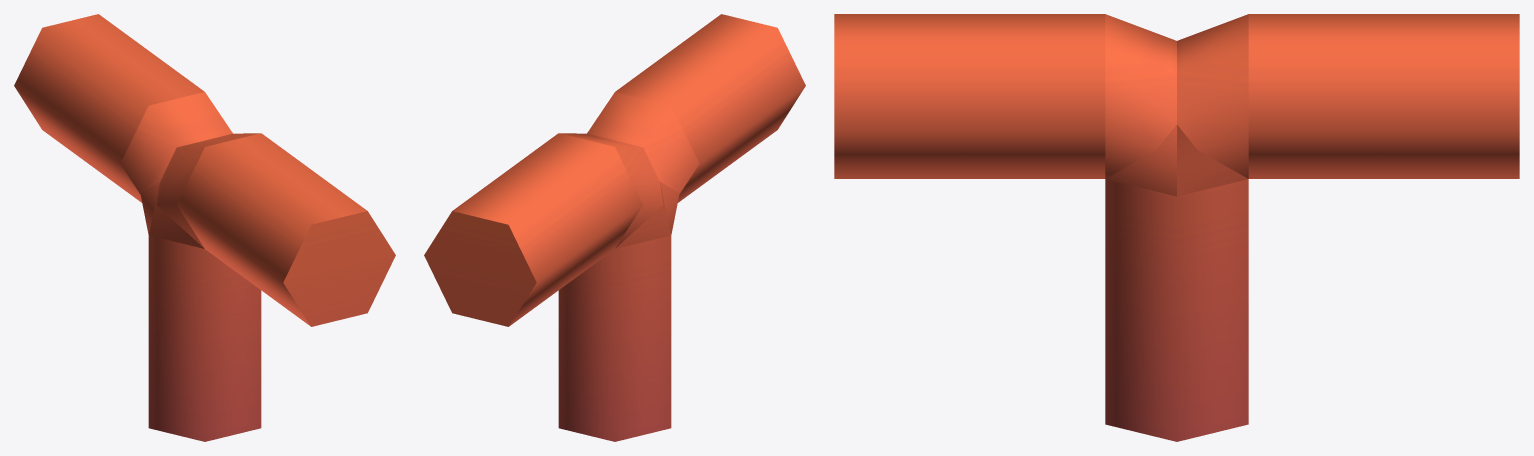
Rendered from pipe-split.fbx.
3 views of the same model, side by side, from view 1: azimuth 30°, elevation 25°; view 2: azimuth 150°, elevation 25°; view 3: azimuth 270°, elevation 25° (orthographic). The views are drawn at different scales.
Parts seen in each view (by area): view 1: pipe-split; view 2: pipe-split; view 3: pipe-split.
Boxes of the visible parts, bbox=[...] form: pipe-split: bbox=[14, 14, 395, 441]; pipe-split: bbox=[424, 14, 805, 441]; pipe-split: bbox=[834, 14, 1519, 441].
Size of the model in its own units: 20 by 50 by 82.68.
